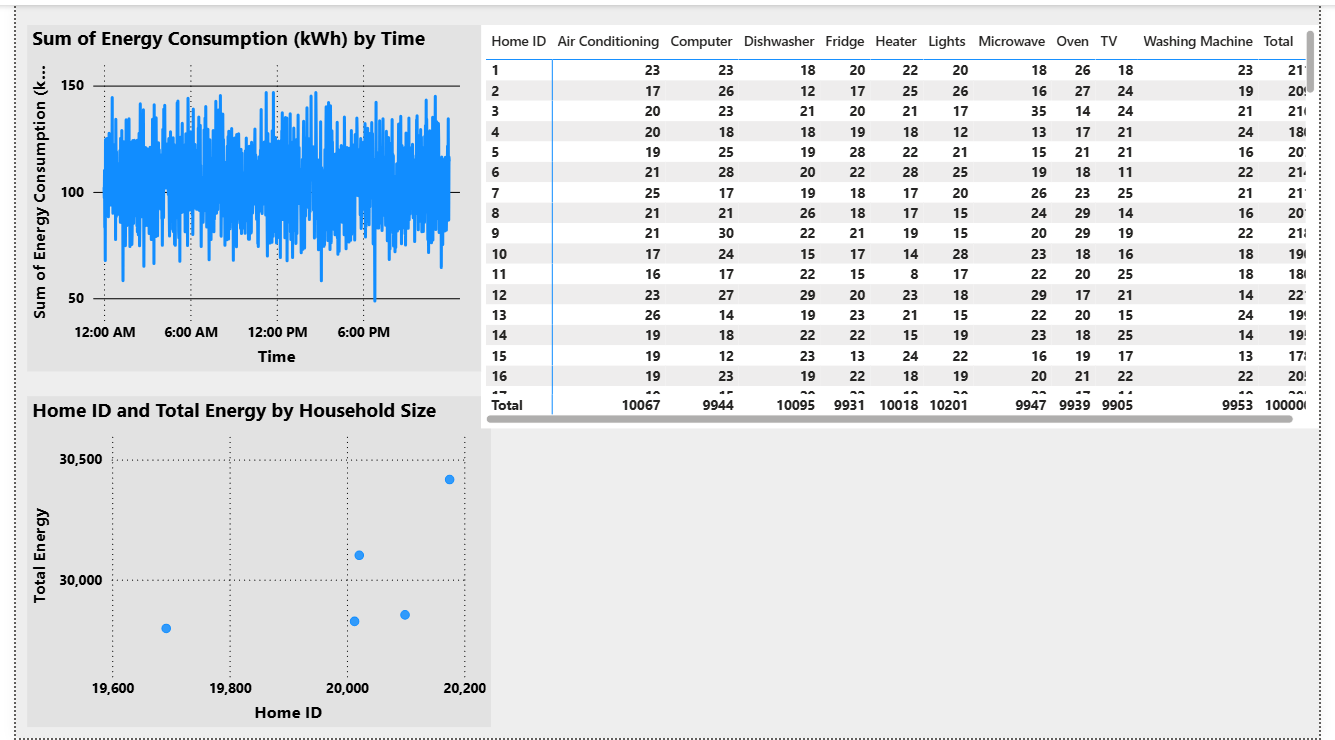

This screenshot's page, from the dashboard's own definition file:
{"tool":"powerbi","page":{"name":"Page 2","canvas":[1280,720],"ordinal":1},"visuals":[{"type":"scatterChart","fields":{"Y":["powerconsumption dataset.Total Energy"],"Category":["powerconsumption dataset.Household Size"],"X":["CountNonNull(powerconsumption dataset.Home ID)"]},"box":[11,384.1,455.2,325.2],"z":0},{"type":"pivotTable","fields":{"Values":["Sum(powerconsumption dataset.Appliance Usage)"],"Rows":["powerconsumption dataset.Home ID"],"Columns":["powerconsumption dataset.Appliance Type"]},"box":[456.4,19.6,823.3,396.3],"z":1000},{"type":"lineChart","fields":{"Category":["powerconsumption dataset.Time"],"Y":["Sum(powerconsumption dataset.Energy Consumption (kWh))"]},"box":[11,19.6,445.4,339.9],"z":2000}]}

Visuals, with their boxes in screenshot pixels (x1, y1, x2, y2), scaled from the page's 1280x720 canvas onto the 1335x740 screenshot:
scatterChart - powerconsumption dataset.Total Energy x powerconsumption dataset.Household Size: (11,395,486,729)
pivotTable - Sum(powerconsumption dataset.Appliance Usage) x powerconsumption dataset.Home ID: (476,20,1334,427)
lineChart - powerconsumption dataset.Time x Sum(powerconsumption dataset.Energy Consumption (kWh)): (11,20,476,369)
